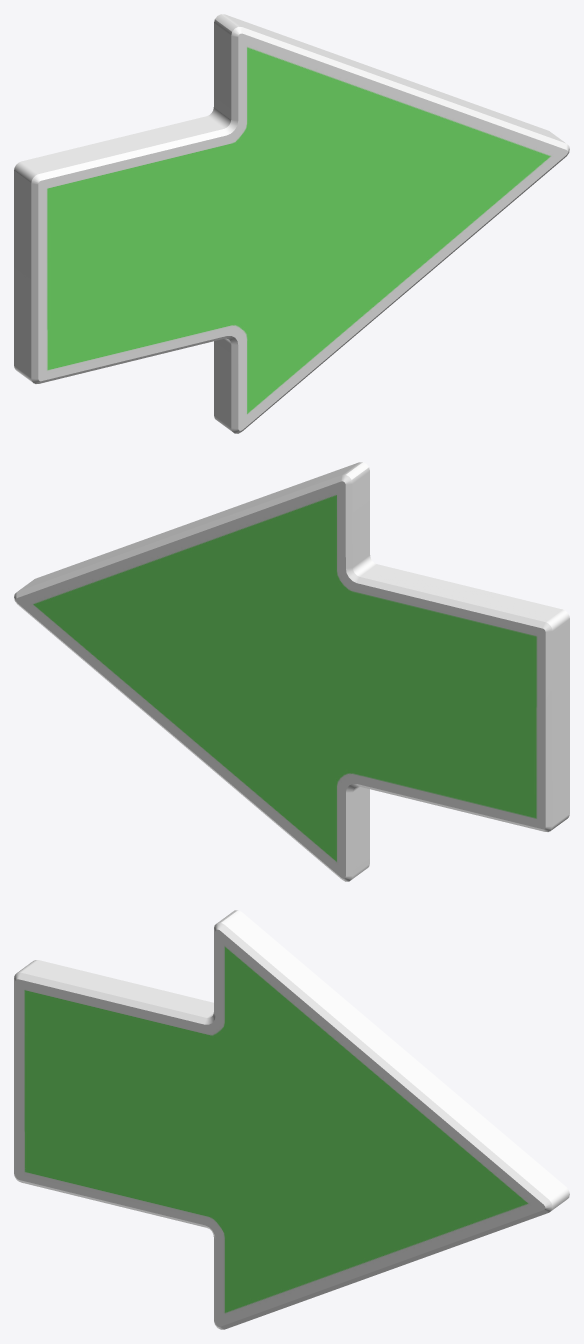
File: waypoint1105FBX.fbx
3 views of the same model, one above another, from view 1: azimuth 30°, elevation 25°; view 2: azimuth 150°, elevation 25°; view 3: azimuth 330°, elevation 25° (orthographic).
Parts seen in each view (by area): view 1: svgMesh1; view 2: svgMesh1; view 3: svgMesh1.
Part boxes in pixels (left/top/right/bottom): svgMesh1: left=14, top=14, right=569, bottom=433; svgMesh1: left=14, top=462, right=569, bottom=881; svgMesh1: left=14, top=910, right=569, bottom=1329.
Bounding box in the file's own units: 13.84 × 10 × 1.
Materials: 1 (1 with a texture image).
